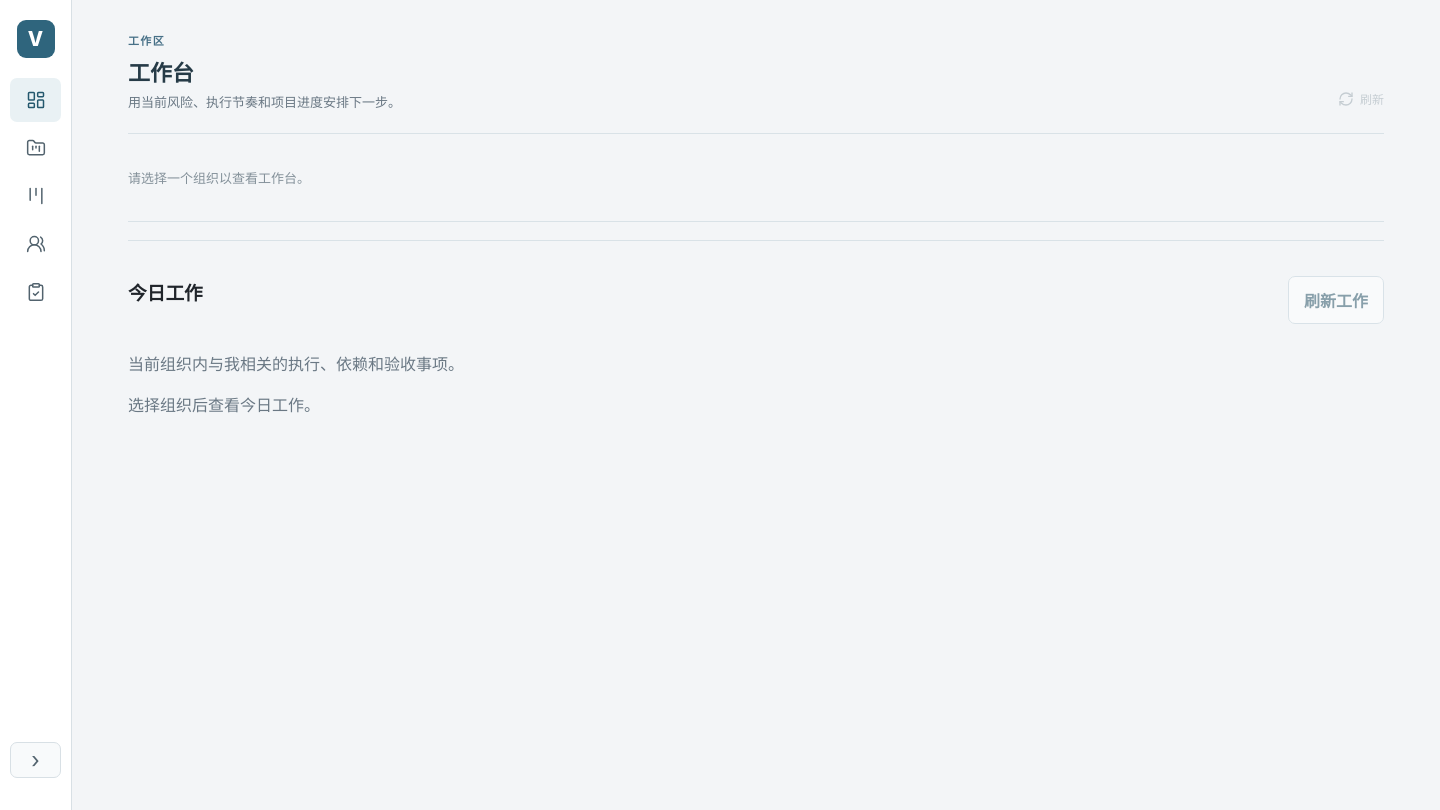
Test: web app › remembers the expanded sidebar preference
Check: the heading "工作台" is shown, box [128,60,194,86]
Click the button named "展开菜单".
click(36, 760)  # box [10,742,61,778]
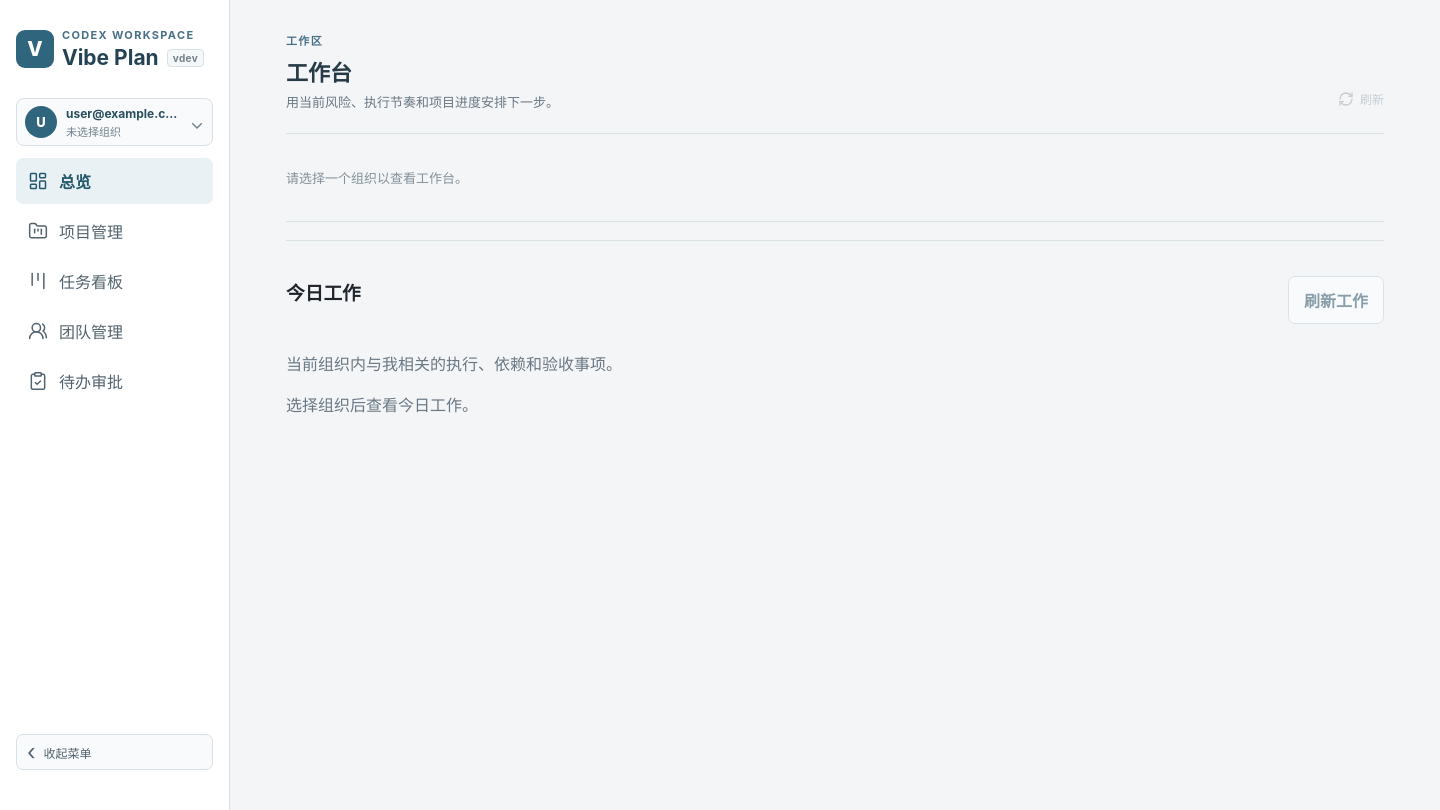
Check: the button "‹ 收起菜单" is shown, box [16,734,213,770]
